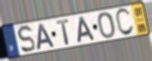A: (36, 22, 56, 51), (77, 15, 96, 44)
C: (115, 7, 135, 37)
O: (97, 11, 116, 40)
S: (16, 24, 37, 54)
T: (56, 18, 71, 46)
